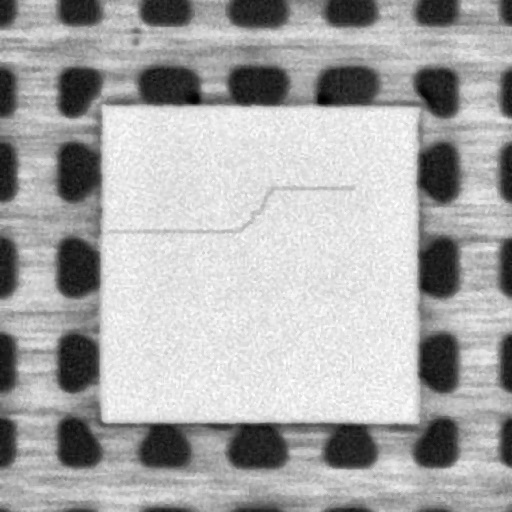DIE_CRACK: (106, 182, 355, 235)
